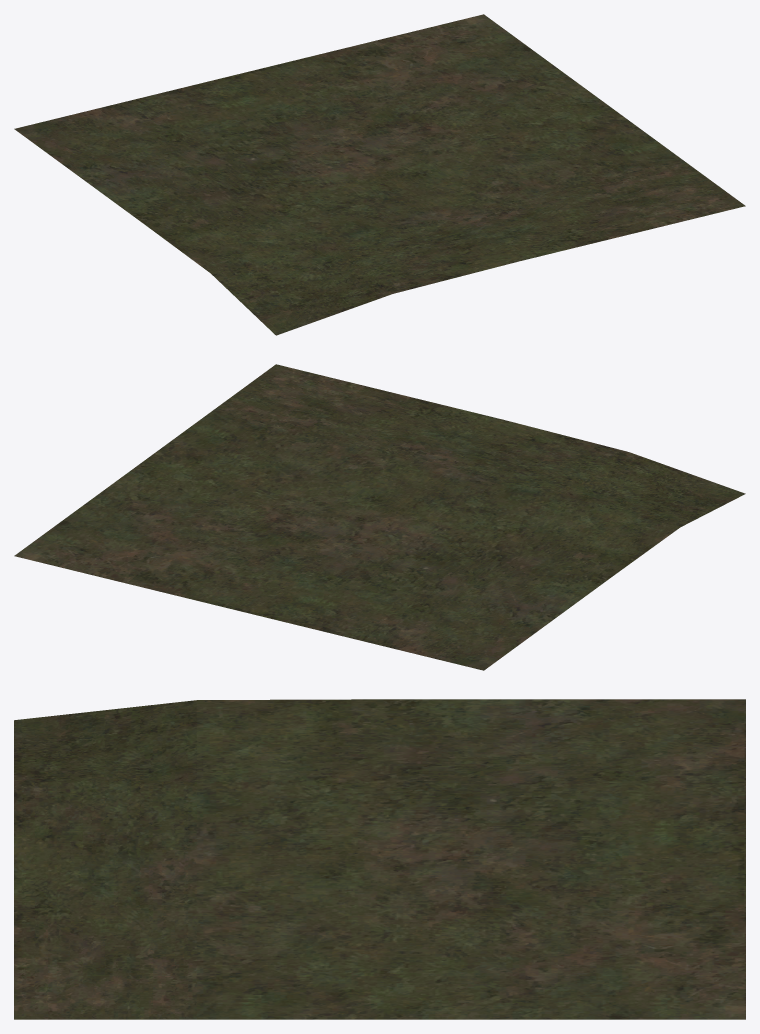
Rendered from blend_weeds08.fbx.
The picture shows the model from 3 angles, top to bottom: view 1: azimuth 30°, elevation 25°; view 2: azimuth 150°, elevation 25°; view 3: azimuth 270°, elevation 25°; orthographic projection. The views are drawn at different scales.
Visible parts, largest first — view 1: obj0.029; view 2: obj0.029; view 3: obj0.029.
Part boxes in pixels (box(x1,y1,x2,y2)): obj0.029: box(14, 14, 745, 335); obj0.029: box(14, 364, 745, 670); obj0.029: box(14, 699, 745, 1019).
Size of the model in its own units: 10.35 by 0.3418 by 10.
